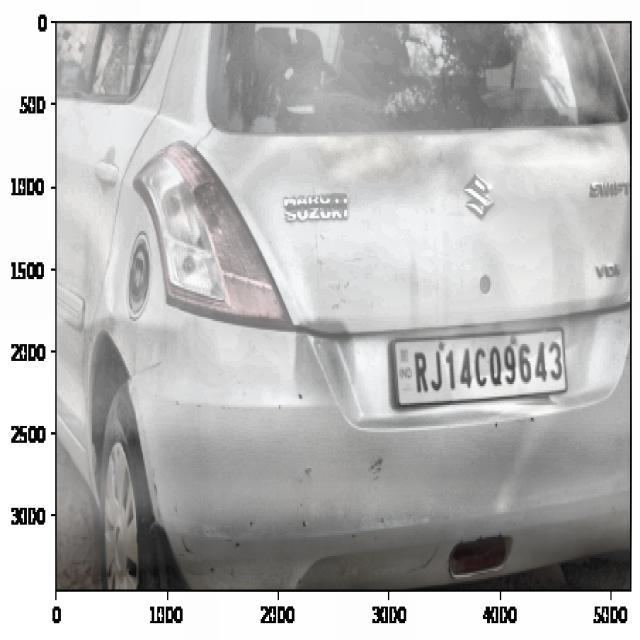license_plate: (407, 338, 567, 400)
